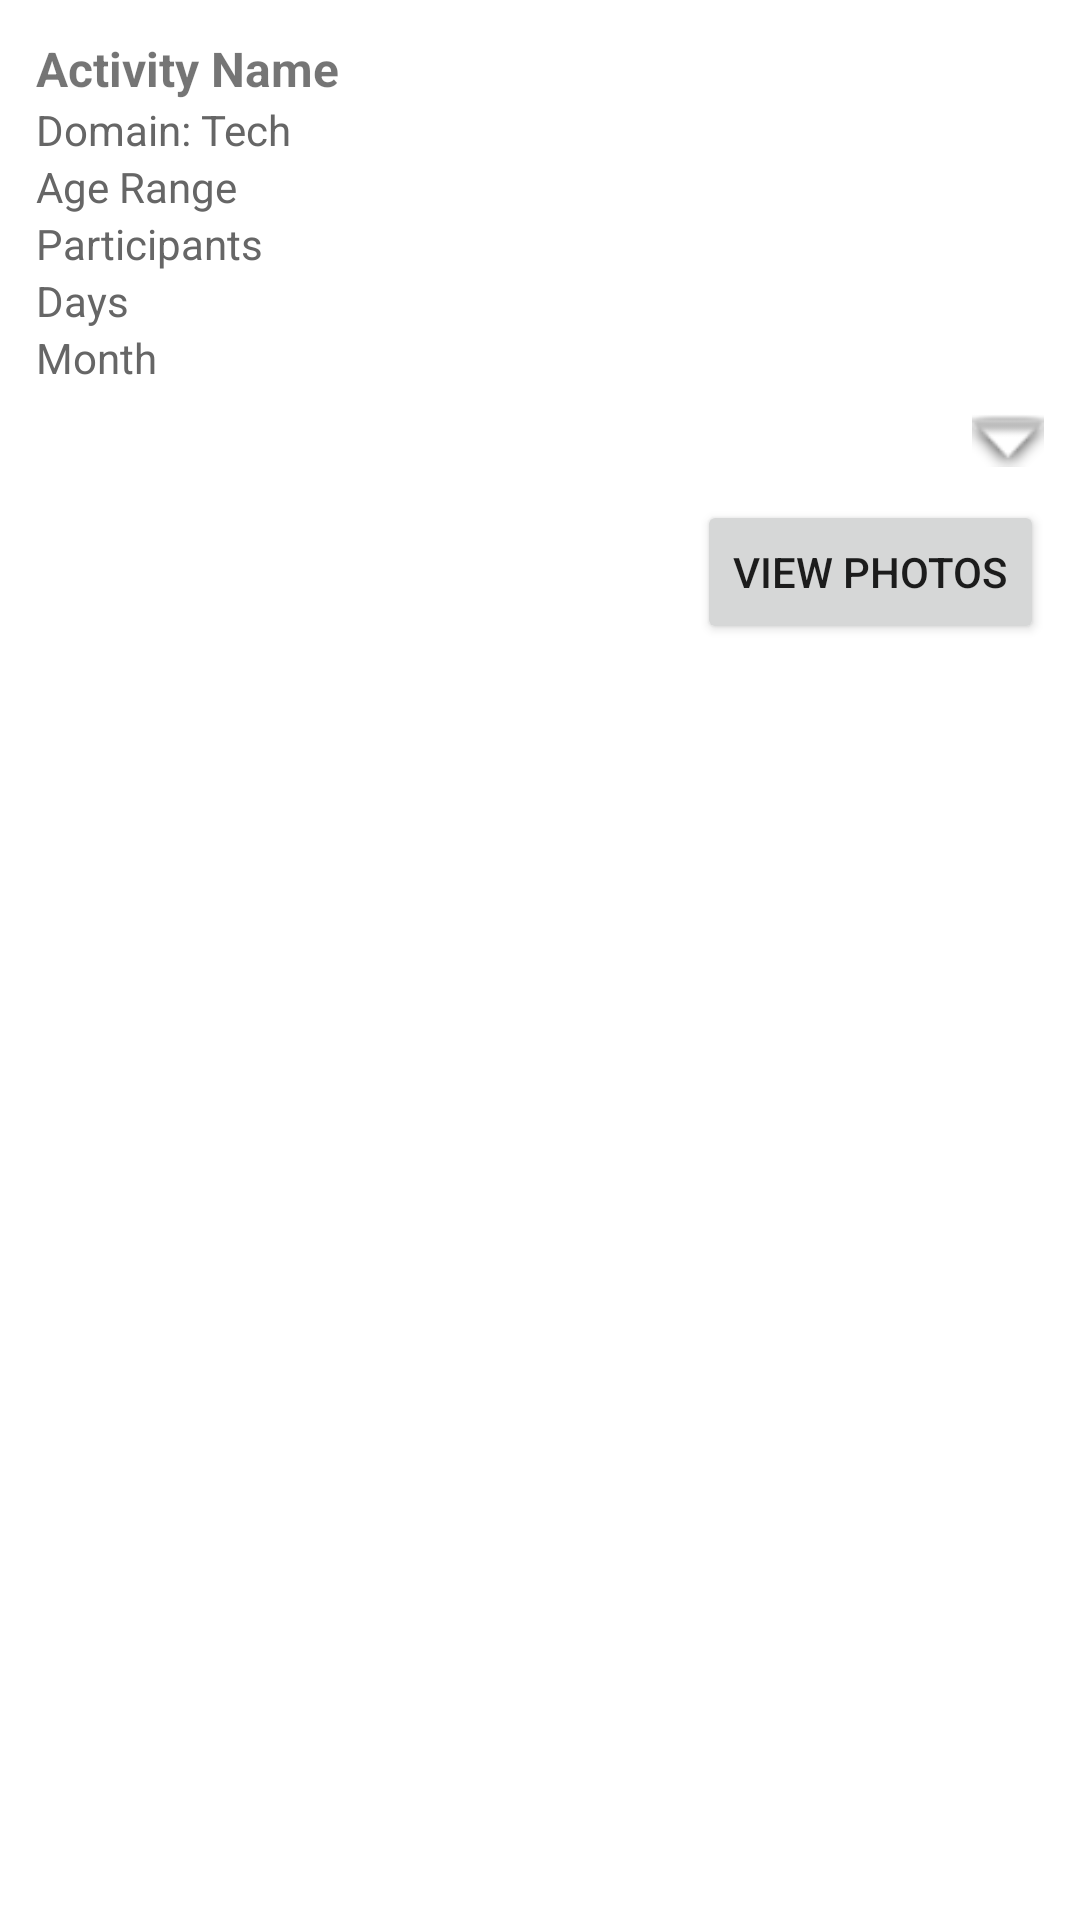

Point at icon controls on the screen. Image size 1080*1920, points as point (x, y).
arrow down float: point (1008, 440)
